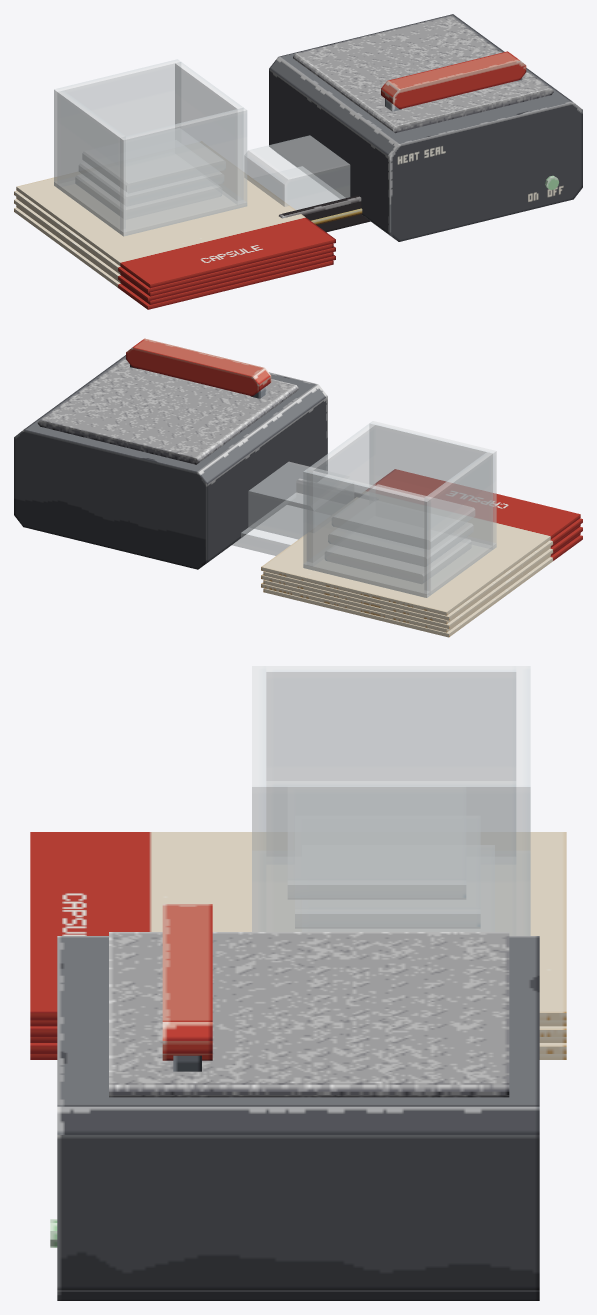
File: packing.glb
3 renders of one model, top to bottom at view 1: azimuth 30°, elevation 25°; view 2: azimuth 150°, elevation 25°; view 3: azimuth 270°, elevation 25°, orthographic. The views are drawn at different scales.
Parts seen in each view (by area): view 1: station, stand; view 2: station, stand; view 3: station.
Boxes of the visible parts, x1,y1,x2,y2 form: station: (14,14,582,309); stand: (244,135,370,232); station: (14,338,582,637); stand: (232,461,363,555); station: (30,666,566,1300).
Size of the model in its own units: 0.2855 by 0.078 by 0.15.
5 materials, 5 textured.
